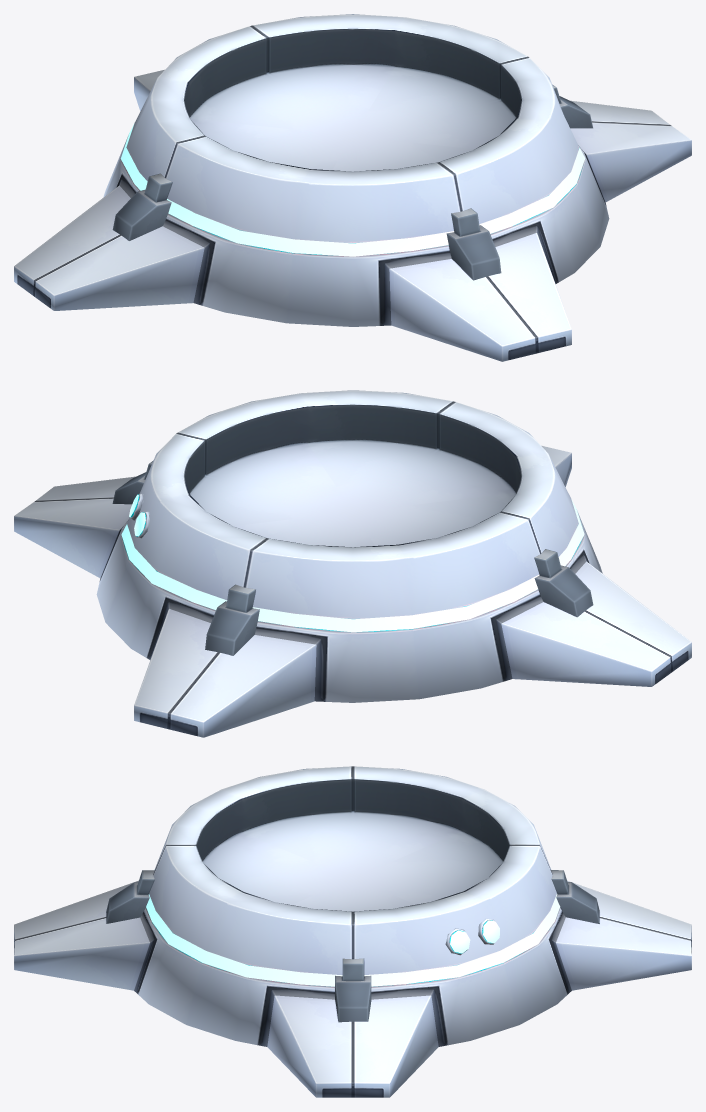
The model's file is obj_platform.gltf.
3 renders of one model, top to bottom at view 1: azimuth 30°, elevation 25°; view 2: azimuth 150°, elevation 25°; view 3: azimuth 270°, elevation 25°, orthographic. The views are drawn at different scales.
Parts seen in each view (by area): view 1: obj_platform; view 2: obj_platform; view 3: obj_platform.
Part boxes in pixels (bbox=[...]): obj_platform: bbox=[14, 14, 691, 361]; obj_platform: bbox=[14, 390, 691, 737]; obj_platform: bbox=[14, 766, 691, 1097].
Size of what is drawn, in the model's own units: 1.92 by 0.3419 by 1.92.
Materials: 2 (1 with a texture image).
